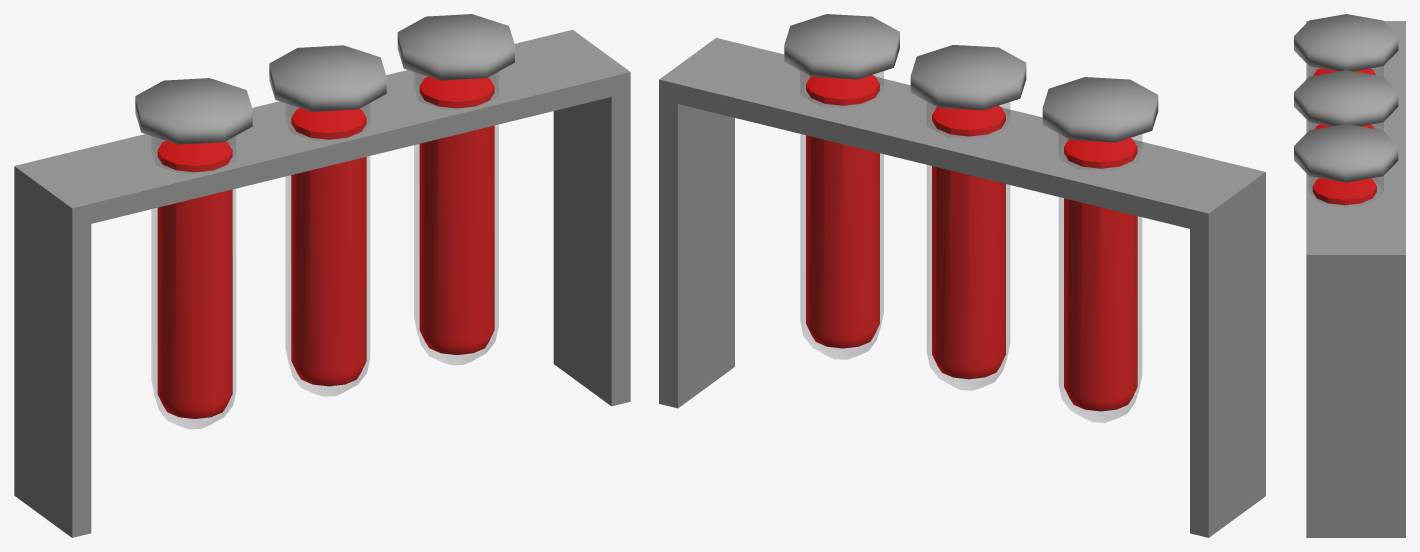
Rendered from Vials_Full_01.fbx.
The picture shows the model from 3 angles, left to right: view 1: azimuth 30°, elevation 25°; view 2: azimuth 150°, elevation 25°; view 3: azimuth 270°, elevation 25°; orthographic projection. The views are drawn at different scales.
Visible parts, largest first — view 1: Vials_Full_01; view 2: Vials_Full_01; view 3: Vials_Full_01.
Part boxes in pixels (<box>): Vials_Full_01: <box>14,14,630,537</box>; Vials_Full_01: <box>659,14,1265,537</box>; Vials_Full_01: <box>1294,14,1405,537</box>.
Size of the model in its own units: 100 by 65.48 by 20.21.
